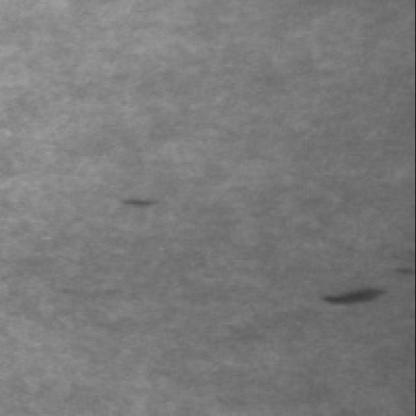inclusion: (320, 264, 416, 314), (116, 190, 168, 218)
